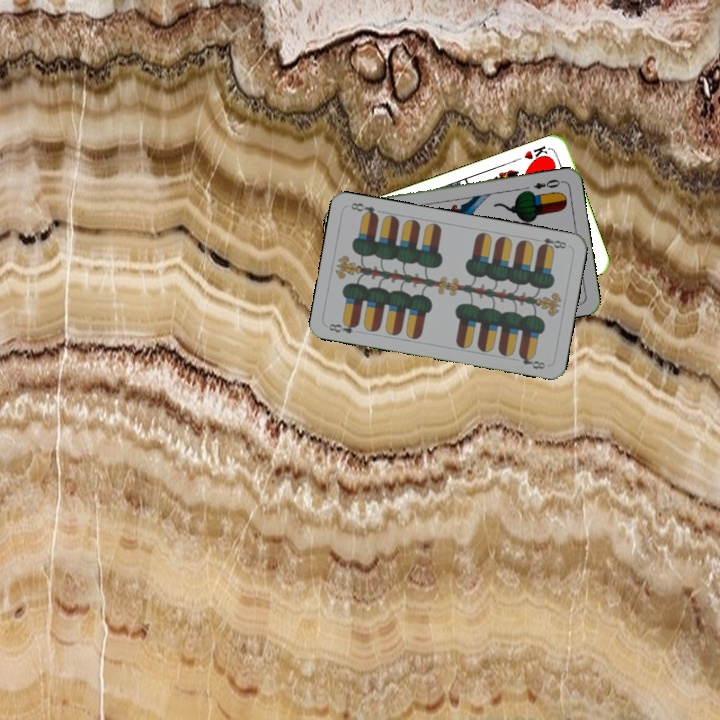E8: (324, 317, 361, 336), (535, 234, 569, 253)
EO: (530, 175, 566, 192)
HK: (520, 142, 553, 166)
